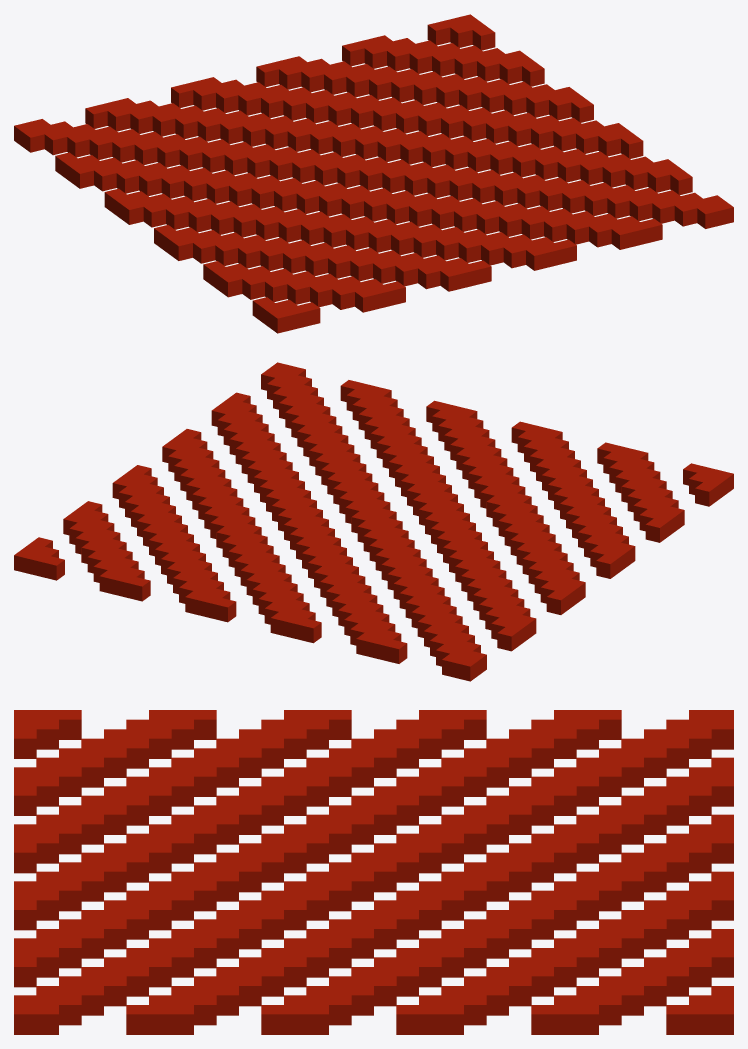
Rendered from mod_gridDanger.obj.
3 renders of one model, top to bottom at view 1: azimuth 30°, elevation 25°; view 2: azimuth 150°, elevation 25°; view 3: azimuth 270°, elevation 25°, orthographic. The views are drawn at different scales.
Size of the model in its own units: 32 by 1 by 32.
Materials: 1 (1 with a texture image).
